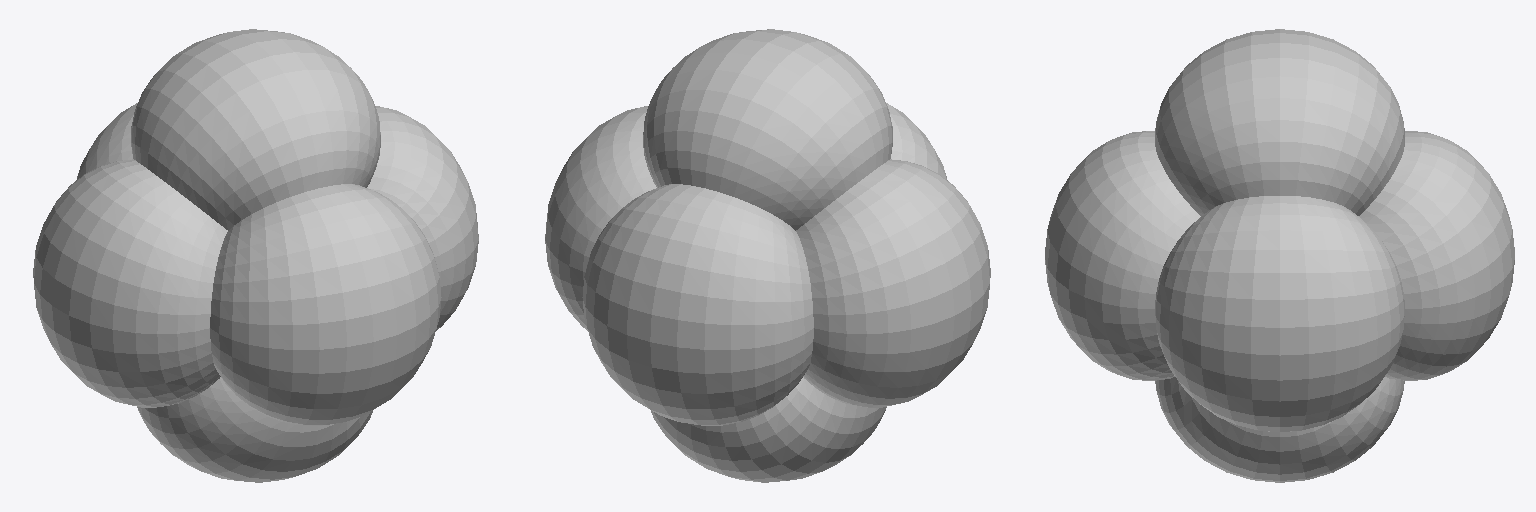
Rendered from blob.obj.
3 renders of one model, left to right at view 1: azimuth 30°, elevation 25°; view 2: azimuth 150°, elevation 25°; view 3: azimuth 270°, elevation 25°, orthographic.
Parts seen in each view (by area): view 1: blob; view 2: blob; view 3: blob.
Part boxes in pixels (left/top/right/bottom): blob: left=33, top=29, right=478, bottom=482; blob: left=545, top=29, right=990, bottom=482; blob: left=1045, top=29, right=1514, bottom=482.
Size of the model in its own units: 3.09 by 3.09 by 3.09.